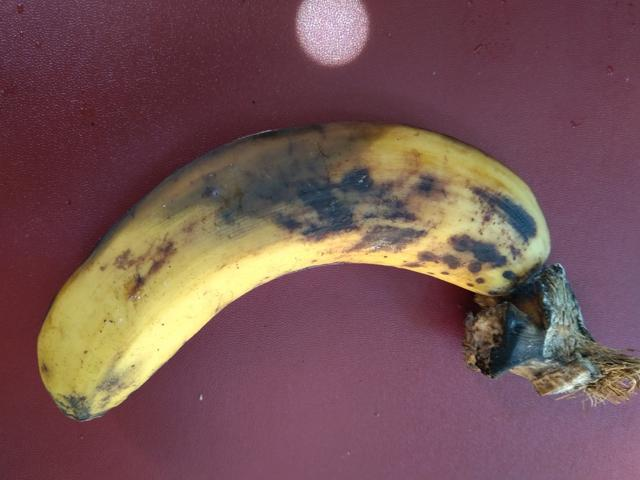overripe: (17, 118, 580, 445)
rotten: (125, 80, 401, 262)
